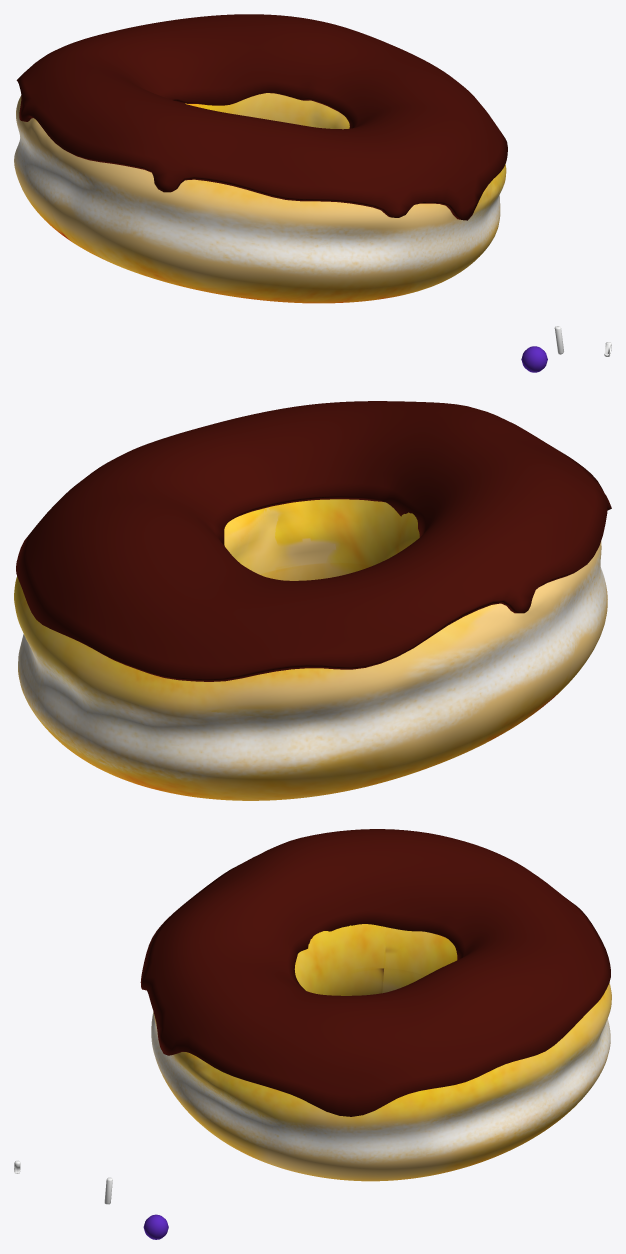
File: makichunari.glb
3 renders of one model, top to bottom at view 1: azimuth 30°, elevation 25°; view 2: azimuth 150°, elevation 25°; view 3: azimuth 270°, elevation 25°, orthographic. The views are drawn at different scales.
Visible parts, largest first — view 1: icing, doughnut, Sphere.002; view 2: icing, doughnut; view 3: icing, doughnut.
Boxes of the visible parts, <box> form: icing: <box>16,14,507,220</box>; doughnut: <box>14,93,506,303</box>; Sphere.002: <box>521,346,547,372</box>; icing: <box>16,401,611,681</box>; doughnut: <box>14,499,607,800</box>; icing: <box>140,829,610,1116</box>; doughnut: <box>151,924,611,1181</box>.
Size of what is drawn, in the model's own units: 0.1462 by 0.0908 by 0.1888.
Materials: 5 (1 with a texture image).
